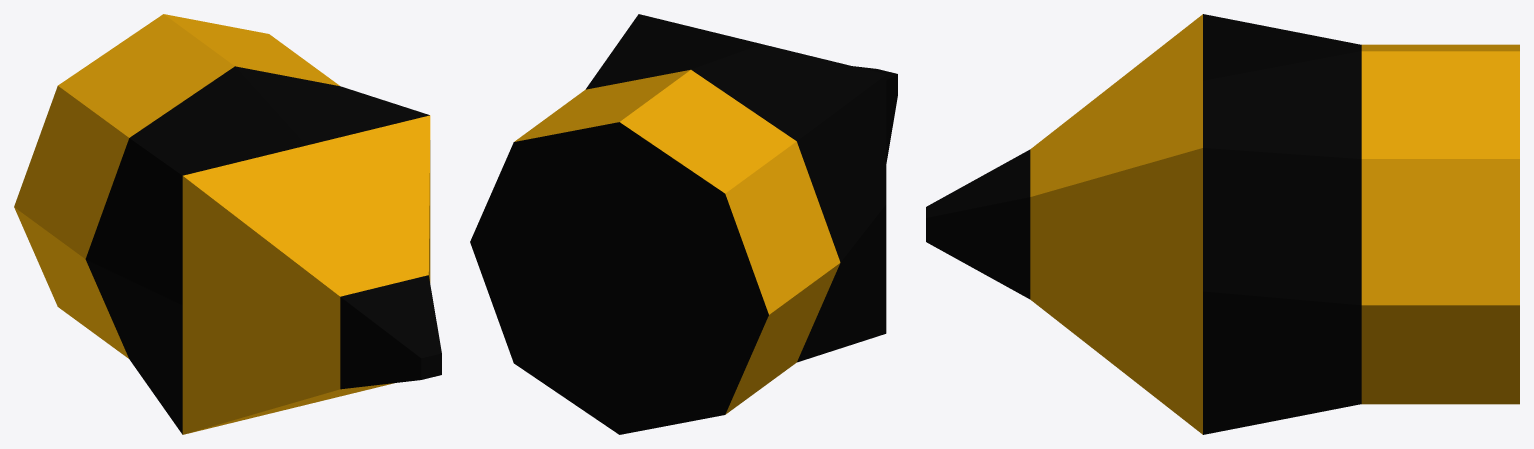
Rendered from bullet.fbx.
3 renders of one model, left to right at view 1: azimuth 30°, elevation 25°; view 2: azimuth 150°, elevation 25°; view 3: azimuth 270°, elevation 25°, orthographic. The views are drawn at different scales.
Visible parts, largest first — view 1: Cube; view 2: Cube; view 3: Cube.
Part boxes in pixels (x1,y1,x2,y2): Cube: [14, 14, 441, 434]; Cube: [470, 14, 897, 434]; Cube: [926, 14, 1519, 434].
Bounding box in the file's own units: 16.46 × 16.46 × 25.56.
